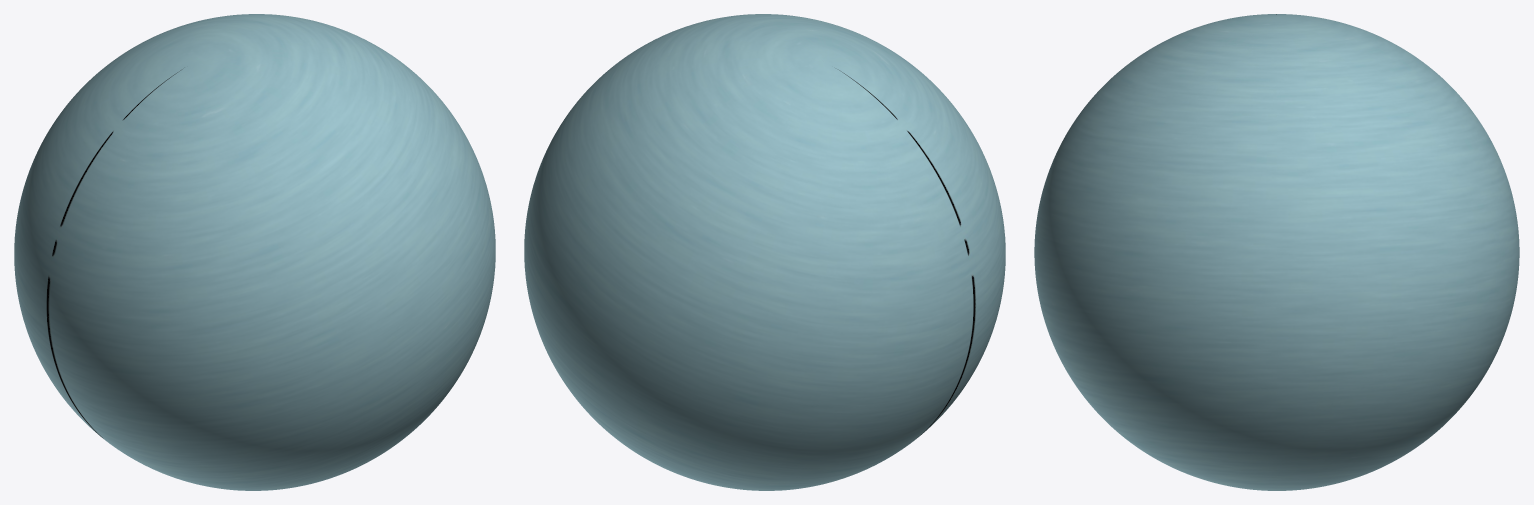
The model's file is neptune.glb.
3 renders of one model, left to right at view 1: azimuth 30°, elevation 25°; view 2: azimuth 150°, elevation 25°; view 3: azimuth 270°, elevation 25°, orthographic.
Visible parts, largest first — view 1: Neptune; view 2: Neptune; view 3: Neptune.
Part boxes in pixels (box(x1,y1,x2,y2)): Neptune: box(14, 14, 495, 490); Neptune: box(524, 14, 1005, 490); Neptune: box(1034, 14, 1519, 490).
Bounding box in the file's own units: 1.59 × 1.57 × 1.59.
1 material, 1 textured.
